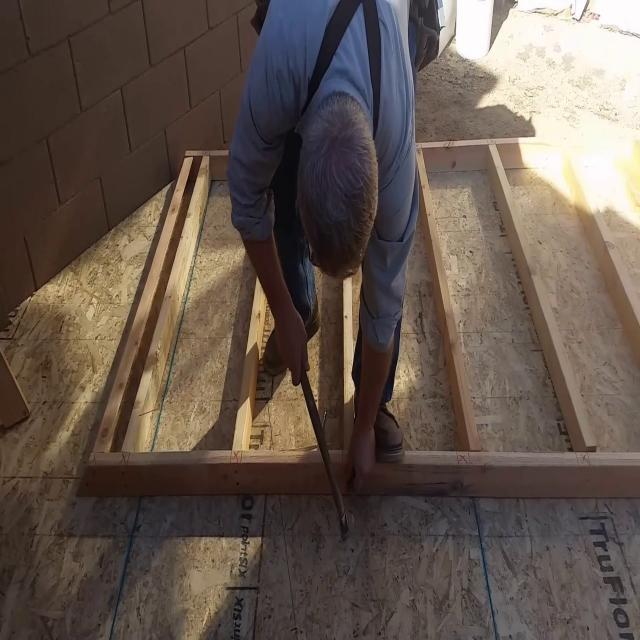hammer: (301, 368, 355, 542)
